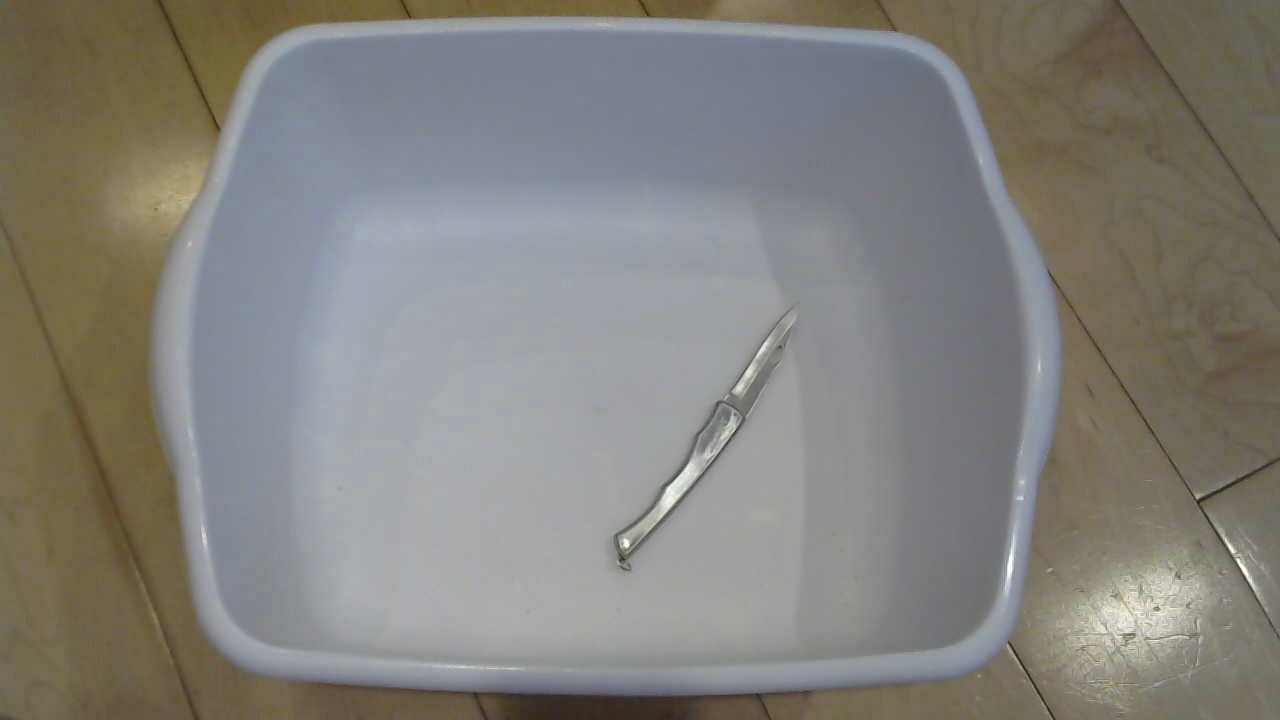knife: (604, 300, 824, 577)
